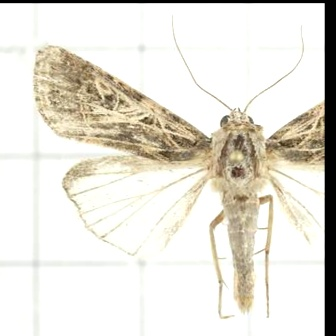Spodoptera litura: (32, 14, 324, 320)
